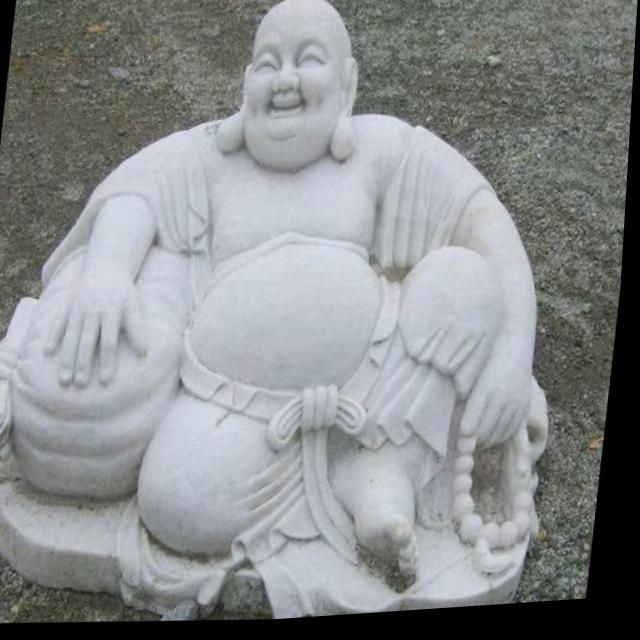Smiling Buddha: (148, 0, 456, 527)
